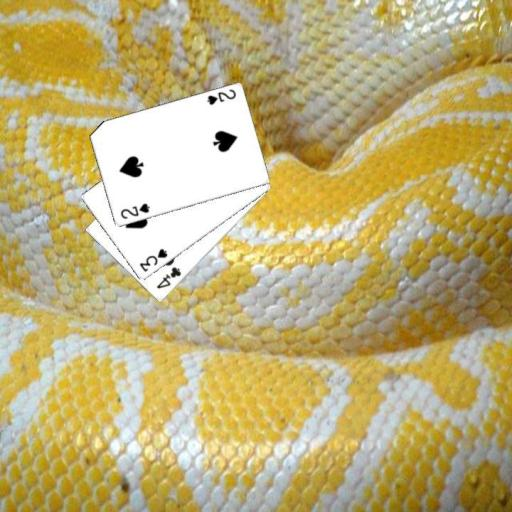2S: (204, 86, 238, 107), (117, 201, 151, 221)
3S: (137, 245, 169, 274)
4C: (154, 264, 183, 291)
